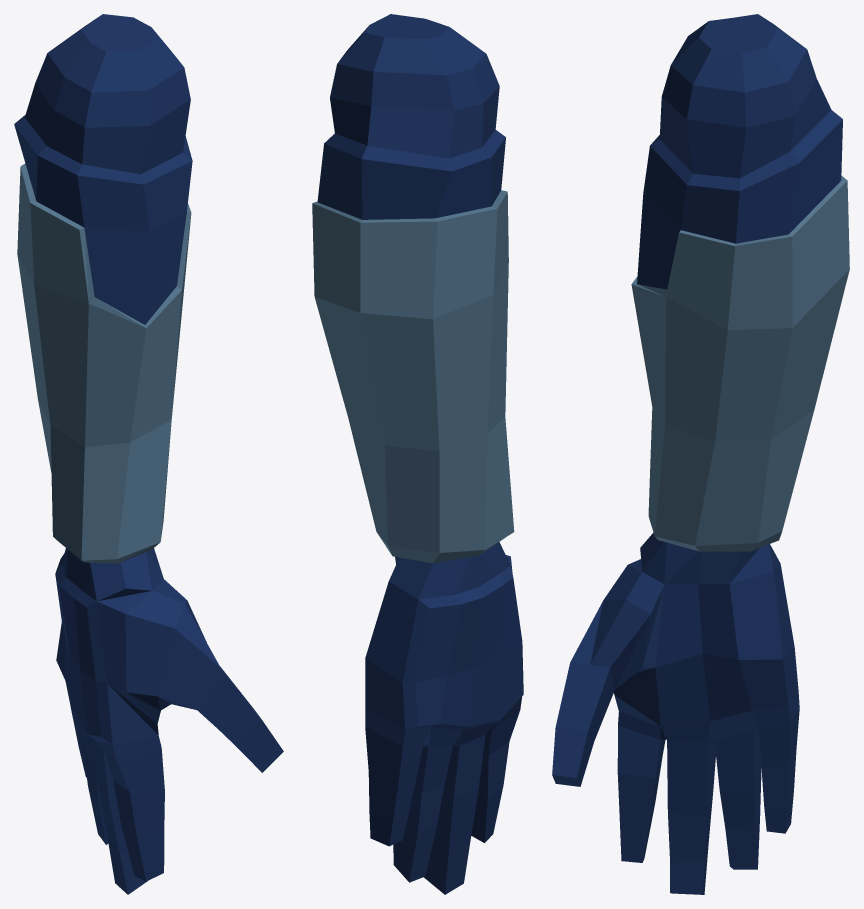
Rendered from left_forearm.fbx.
3 renders of one model, left to right at view 1: azimuth 30°, elevation 25°; view 2: azimuth 150°, elevation 25°; view 3: azimuth 270°, elevation 25°, orthographic. The views are drawn at different scales.
Visible parts, largest first — view 1: left_arm_forearm; view 2: left_arm_forearm; view 3: left_arm_forearm.
Boxes of the visible parts, left/top/right/bottom form: left_arm_forearm: left=14, top=14, right=283, bottom=894; left_arm_forearm: left=312, top=14, right=523, bottom=894; left_arm_forearm: left=552, top=14, right=849, bottom=894.
Size of the model in its own units: 0.1041 by 0.4949 by 0.1521.
